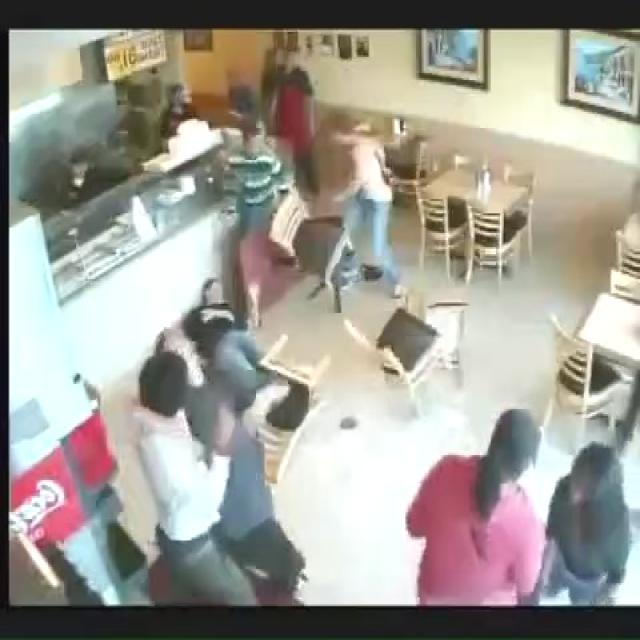fight: (129, 323, 286, 606), (234, 115, 410, 309)
